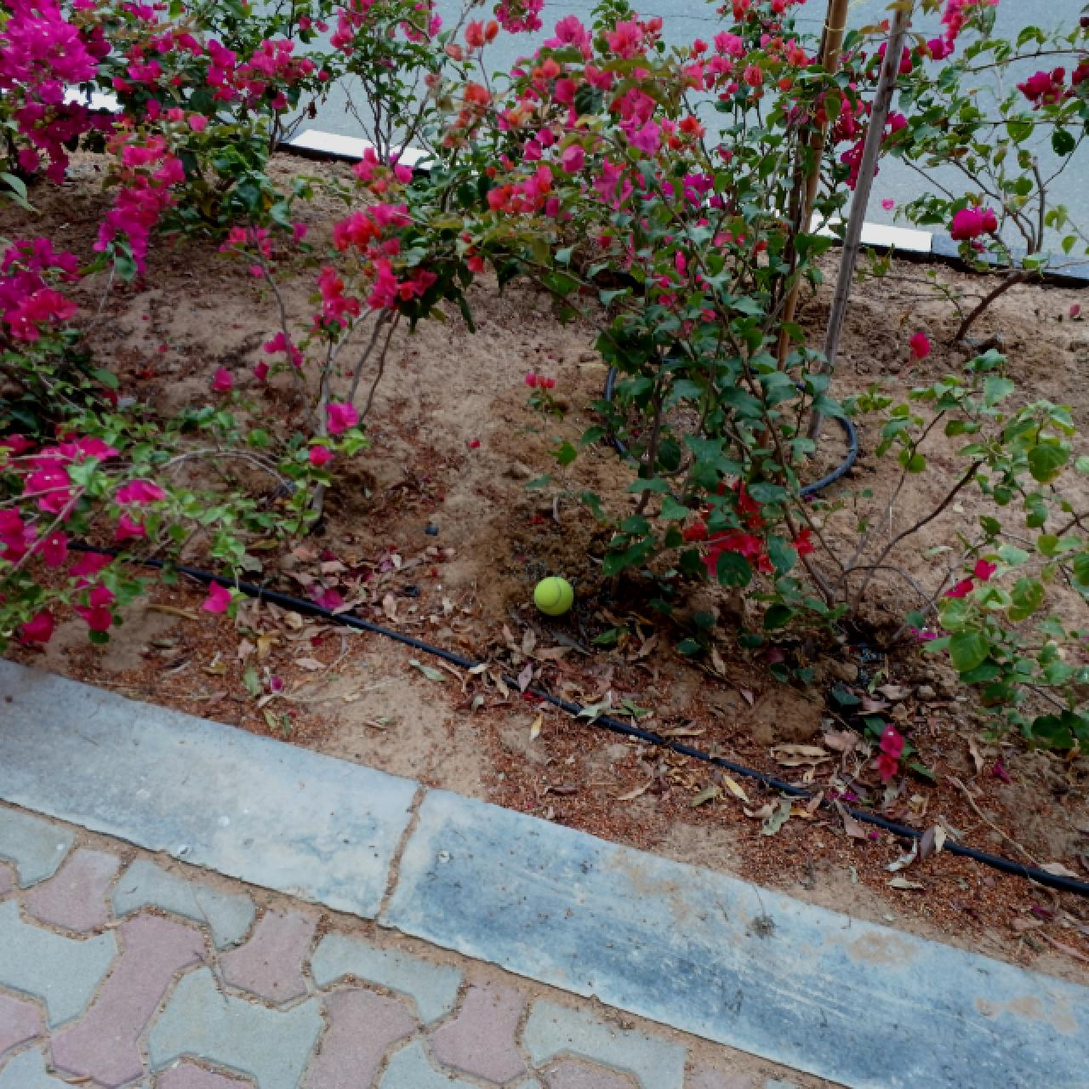tennis-ball: (535, 575, 572, 620)
